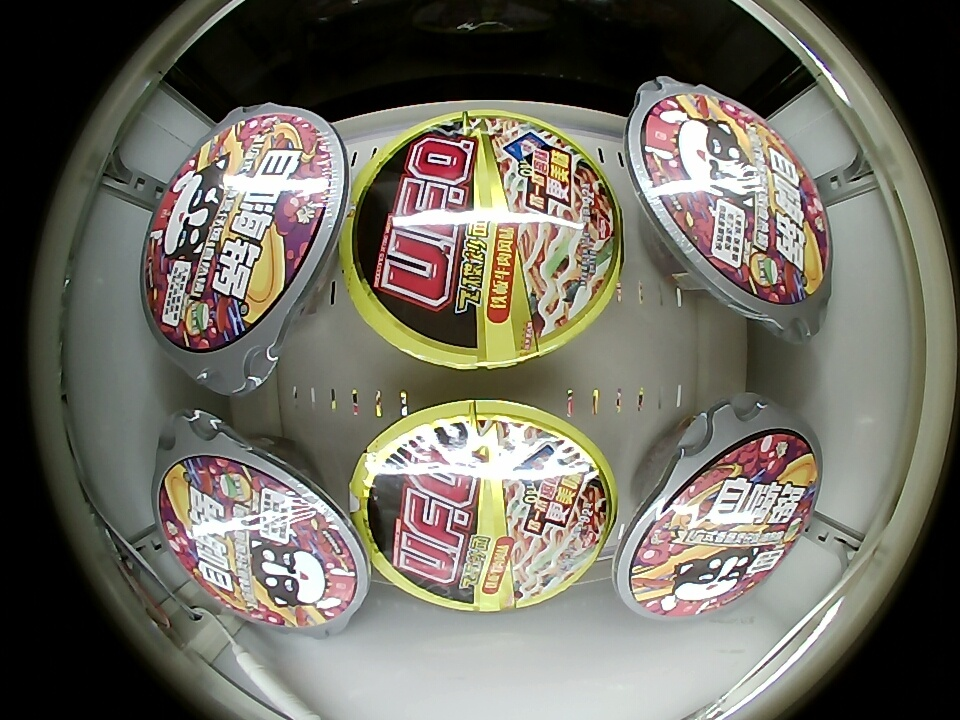ufo: (341, 109, 626, 368), (354, 398, 619, 612)
zihaiguo: (145, 114, 332, 353), (640, 94, 828, 305), (629, 428, 818, 617), (159, 454, 359, 628)
